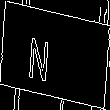N_N: (43, 27, 67, 83)
